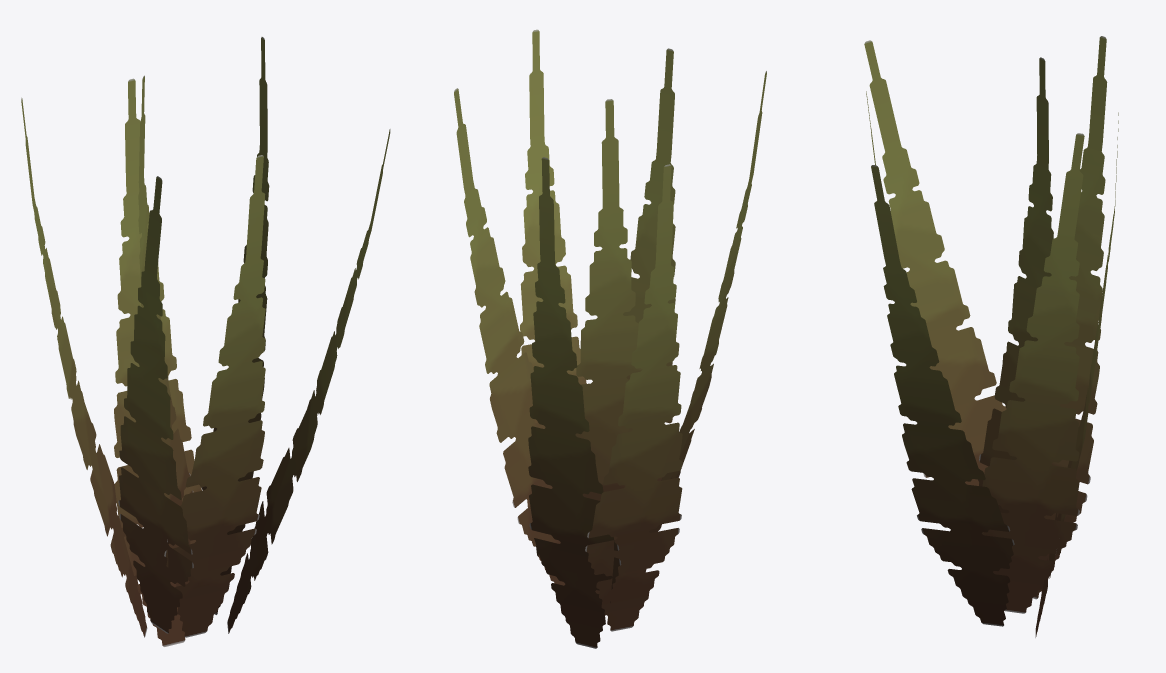
The model's file is SM_TallGrassV1.fbx.
The picture shows the model from 3 angles, left to right: view 1: azimuth 30°, elevation 25°; view 2: azimuth 150°, elevation 25°; view 3: azimuth 270°, elevation 25°; orthographic projection. The views are drawn at different scales.
Visible parts, largest first — view 1: SM_TallGrassV1; view 2: SM_TallGrassV1; view 3: SM_TallGrassV1.
Part boxes in pixels (x1,y1,x2,y2): SM_TallGrassV1: (21, 37, 390, 646); SM_TallGrassV1: (454, 29, 766, 648); SM_TallGrassV1: (864, 36, 1118, 637).
Bounding box in the file's own units: 232 × 417 × 226.
